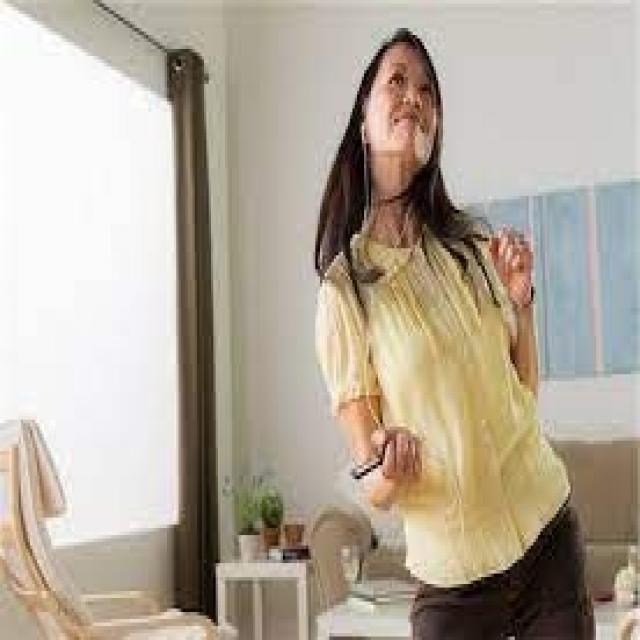walking: (313, 17, 598, 639)
